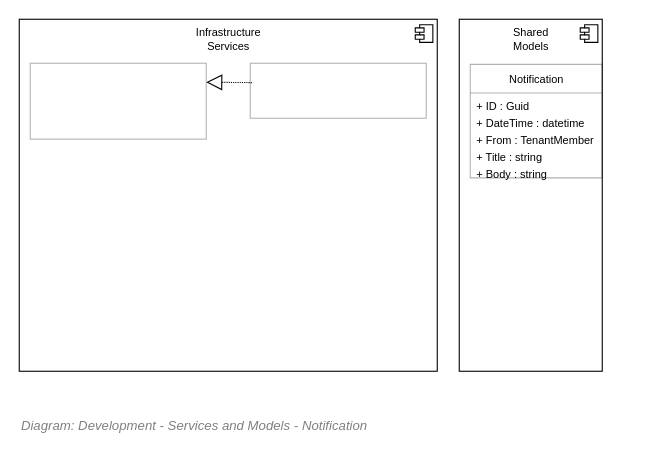
Image size: 655x457. Some labels were removed from this diagram. The shapes that lost their labels are listed below. From the top down, each one's centre as x and y in pixels, then its label:
At point 117,100: "<<interface>> INotificationService + Send(Notification) : void".
At point 337,90: "NotificationService".
